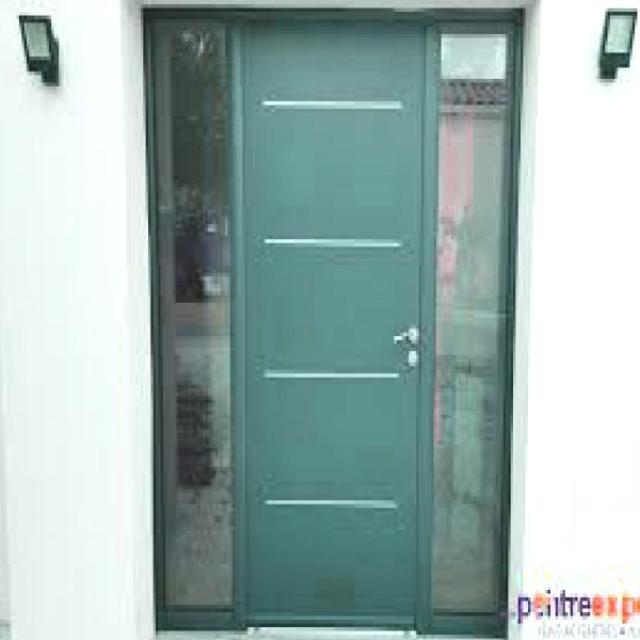door: (229, 14, 433, 631)
